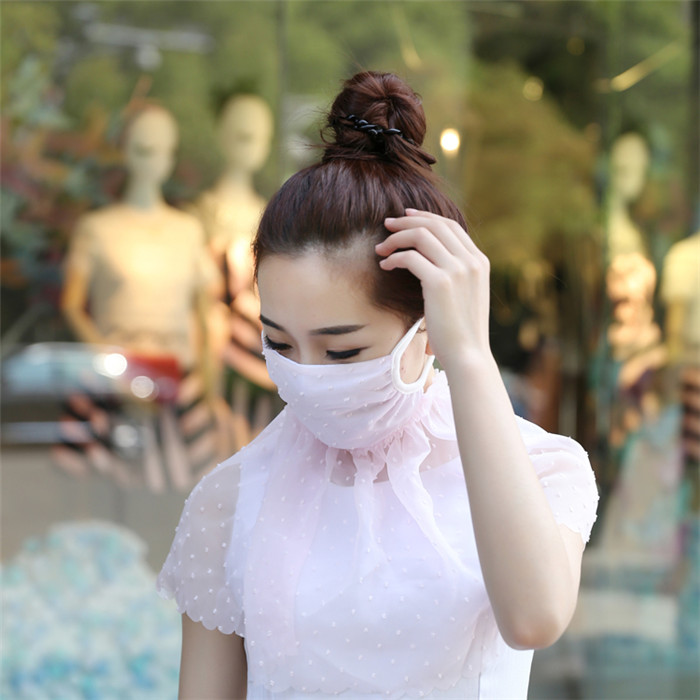face_mask: (259, 250, 415, 449)
